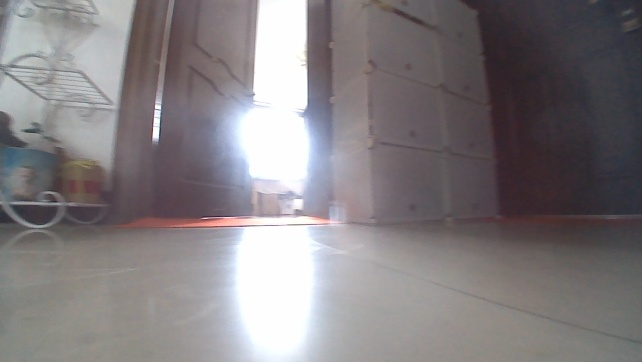blanket: (120, 211, 343, 230)
door: (475, 0, 641, 219), (107, 0, 263, 226)
